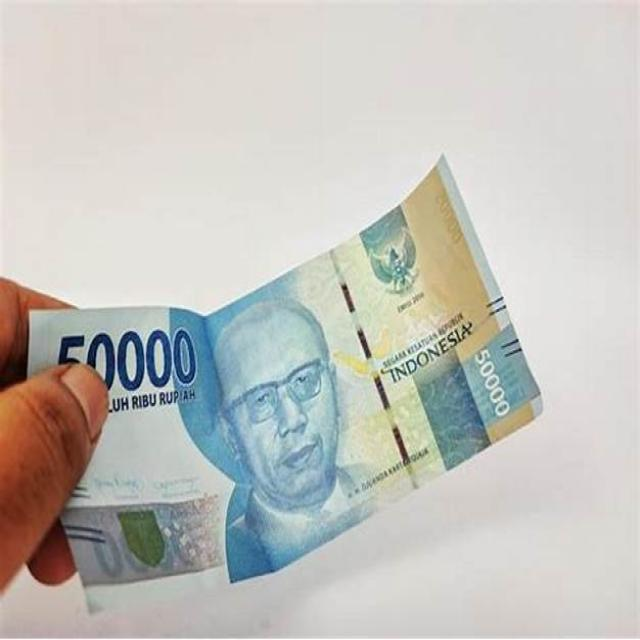lima puluh ribu rupiah: (21, 158, 542, 603)
